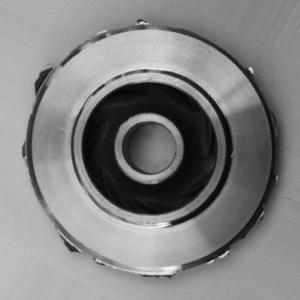casting_with_burr: (20, 16, 282, 282)
scratch: (125, 214, 176, 239)
